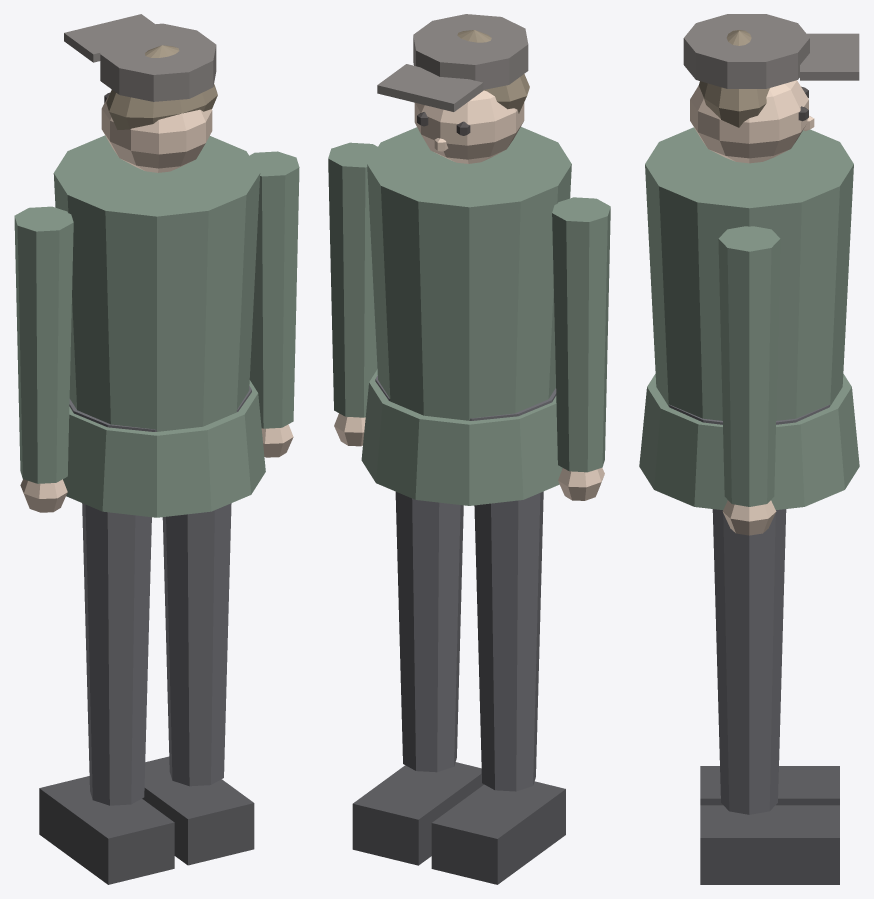
File: npc_antoine.glb
The picture shows the model from 3 angles, left to right: view 1: azimuth 30°, elevation 25°; view 2: azimuth 150°, elevation 25°; view 3: azimuth 270°, elevation 25°; orthographic projection. The views are drawn at different scales.
Visible parts, largest first — view 1: Torso, LegL, LegR, Head, ArmL, ArmR; view 2: Torso, LegL, LegR, Head, ArmL, ArmR; view 3: Torso, LegR, Head, ArmR, LegL.
Part boxes in pixels (x1,y1,x2,y2): Torso: [53, 135, 265, 517]; LegL: [39, 503, 174, 884]; LegR: [142, 503, 254, 865]; Head: [64, 14, 217, 172]; ArmL: [14, 206, 73, 512]; ArmR: [249, 151, 299, 457]; Torso: [361, 127, 571, 505]; LegL: [431, 491, 565, 884]; LegR: [352, 492, 483, 865]; Head: [377, 14, 529, 163]; ArmL: [552, 197, 610, 500]; ArmR: [328, 142, 377, 446]; Torso: [639, 127, 859, 509]; LegR: [700, 509, 839, 884]; Head: [683, 14, 859, 163]; ArmR: [718, 226, 780, 535]; LegL: [700, 766, 839, 805].
Size of the model in its own units: 0.63 by 1.74 by 0.426.
